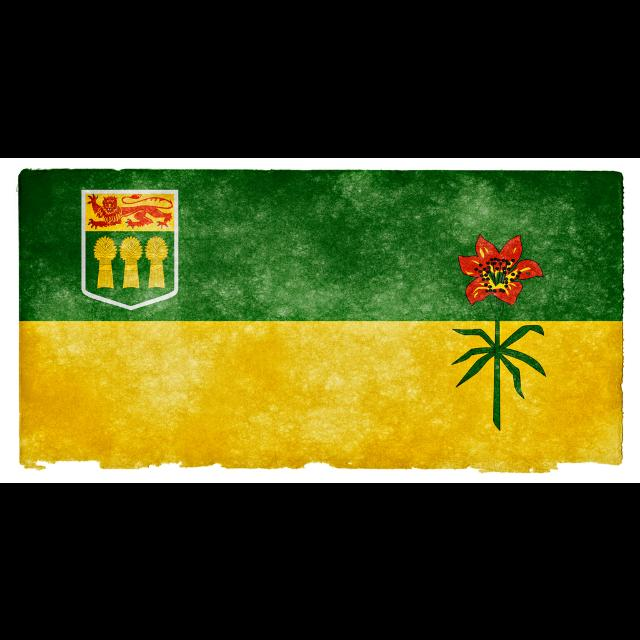Flower: (457, 230, 543, 310)
